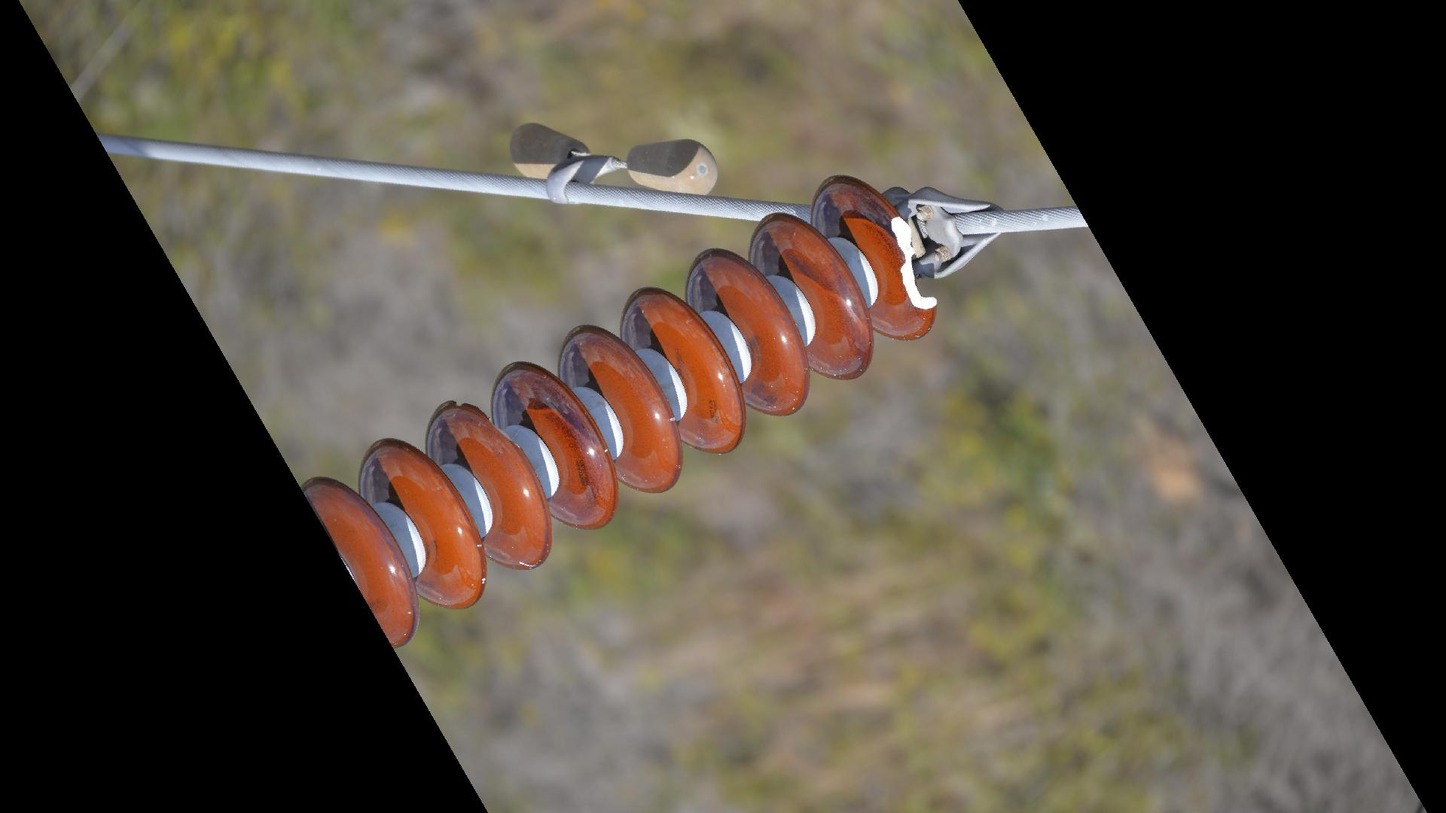insulator: (285, 169, 943, 653)
insulator_breakage: (883, 209, 948, 321)
